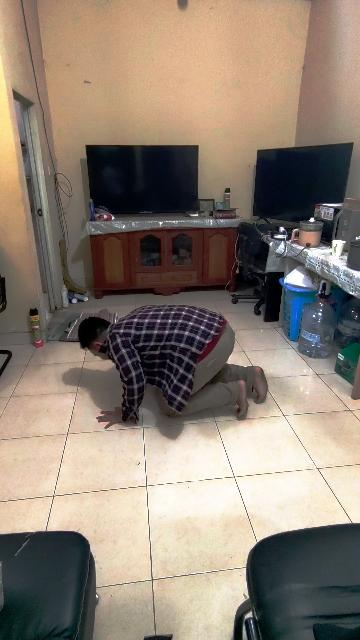jatuh: (68, 302, 268, 436)
